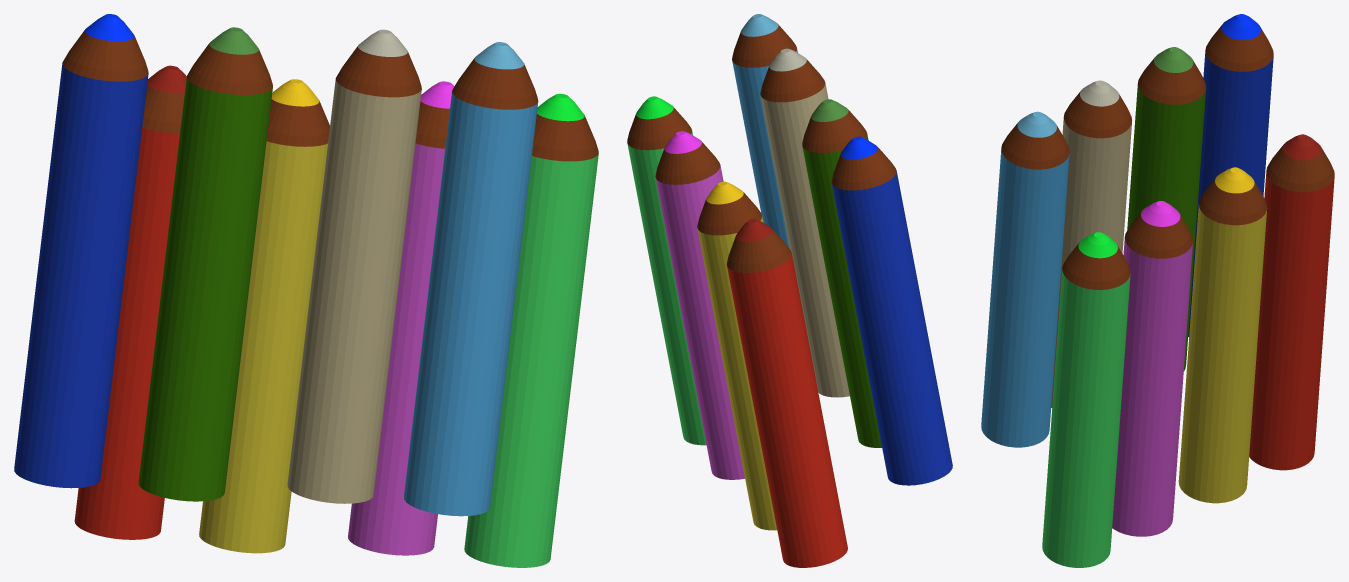
The model's file is color_pins.glb.
The picture shows the model from 3 angles, left to right: view 1: azimuth 30°, elevation 25°; view 2: azimuth 150°, elevation 25°; view 3: azimuth 270°, elevation 25°; orthographic projection. The views are drawn at different scales.
Visible parts, largest first — view 1: Cylinder.004, Cylinder.006, Cylinder.005, Cylinder.007, Cylinder, Cylinder.003, Cylinder.002, Cylinder.001; view 2: Cylinder.005, Cylinder.002, Cylinder.001, Cylinder.006, Cylinder.003, Cylinder.004, Cylinder, Cylinder.007; view 3: Cylinder.003, Cylinder.007, Cylinder, Cylinder.002, Cylinder.001, Cylinder.004, Cylinder.005, Cylinder.006.
Part boxes in pixels (x1,y1,x2,y2): Cylinder.004: [138, 27, 272, 501]; Cylinder.006: [287, 29, 421, 503]; Cylinder.005: [14, 14, 148, 488]; Cylinder.007: [404, 42, 538, 516]; Cylinder: [464, 93, 598, 567]; Cylinder.003: [199, 79, 329, 553]; Cylinder.002: [74, 65, 186, 539]; Cylinder.001: [348, 81, 454, 555]; Cylinder.005: [831, 136, 952, 485]; Cylinder.002: [726, 219, 847, 567]; Cylinder.001: [655, 131, 744, 479]; Cylinder.006: [760, 48, 849, 397]; Cylinder.003: [697, 181, 777, 530]; Cylinder.004: [802, 99, 881, 447]; Cylinder: [627, 96, 706, 445]; Cylinder.007: [732, 14, 797, 248]; Cylinder.003: [1178, 167, 1267, 503]; Cylinder.007: [981, 111, 1069, 447]; Cylinder: [1042, 232, 1130, 567]; Cylinder.002: [1249, 134, 1334, 470]; Cylinder.001: [1112, 201, 1193, 536]; Cylinder.004: [1127, 47, 1206, 371]; Cylinder.005: [1188, 14, 1273, 336]; Cylinder.006: [1051, 80, 1131, 407].
Bounding box in the file's own units: 2.53 × 2.69 × 1.98.
